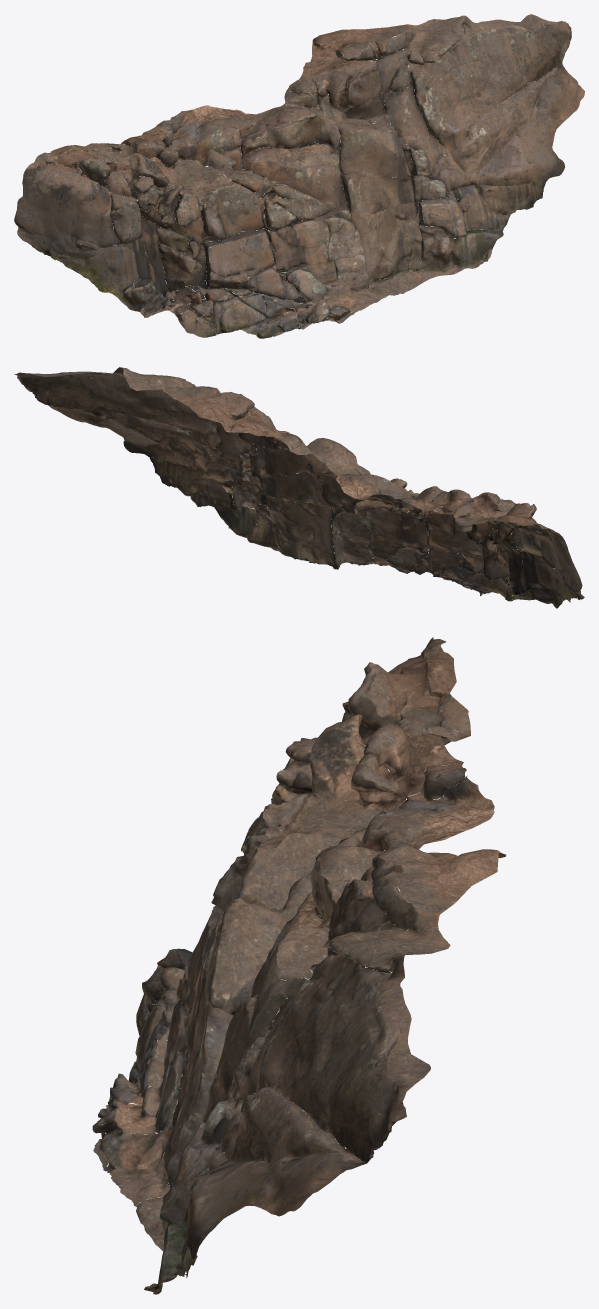
Rendered from bg_cliff_02.glb.
The picture shows the model from 3 angles, top to bottom: view 1: azimuth 30°, elevation 25°; view 2: azimuth 150°, elevation 25°; view 3: azimuth 270°, elevation 25°; orthographic projection. The views are drawn at different scales.
Visible parts, largest first — view 1: bg_cliff_02; view 2: bg_cliff_02; view 3: bg_cliff_02.
Part boxes in pixels (x1,y1,x2,y2): bg_cliff_02: [14, 14, 584, 338]; bg_cliff_02: [14, 367, 584, 608]; bg_cliff_02: [92, 637, 506, 1294].
Size of the model in its own units: 84.39 by 30 by 27.51.
Materials: 1 (1 with a texture image).
